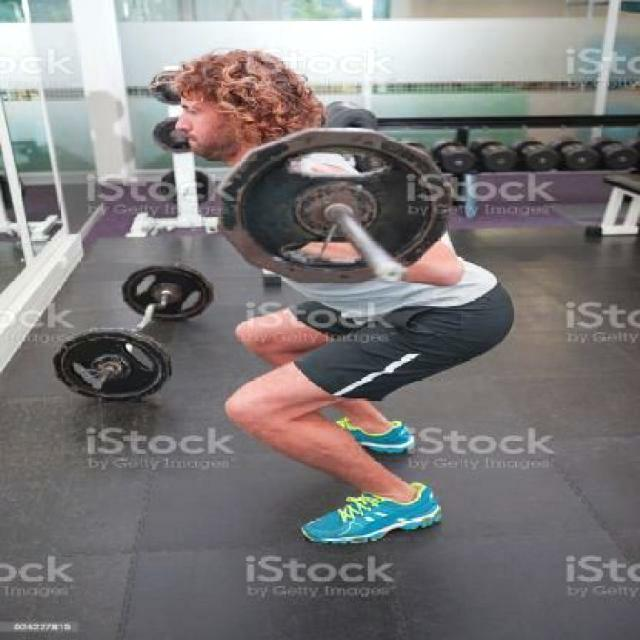barbell: (208, 116, 462, 302)
